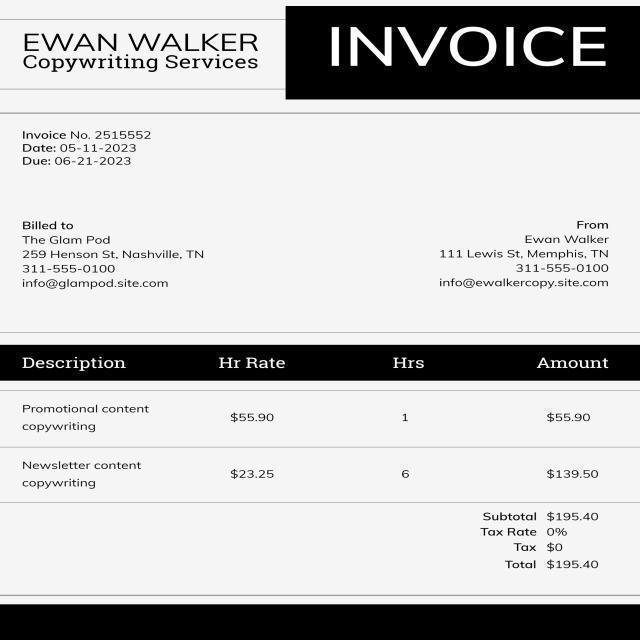paragraph: (289, 8, 635, 102), (9, 14, 266, 95), (12, 211, 228, 304), (419, 208, 624, 294), (468, 507, 613, 579), (16, 123, 161, 172)
table: (13, 339, 623, 501)
